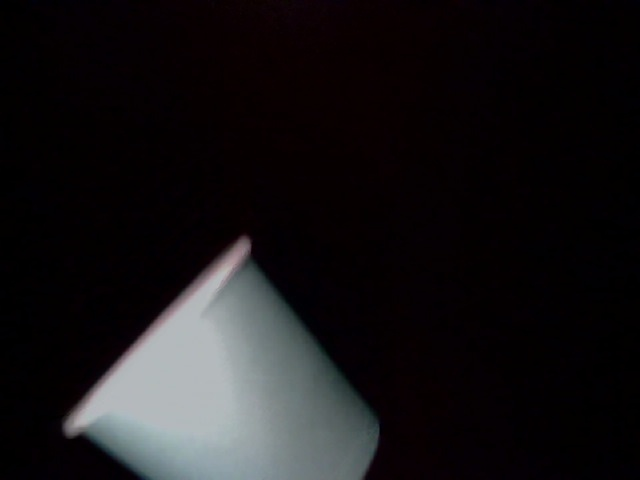CYLJ: (148, 377, 265, 480)
